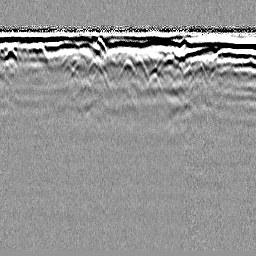cavity: (116, 56, 137, 80)
